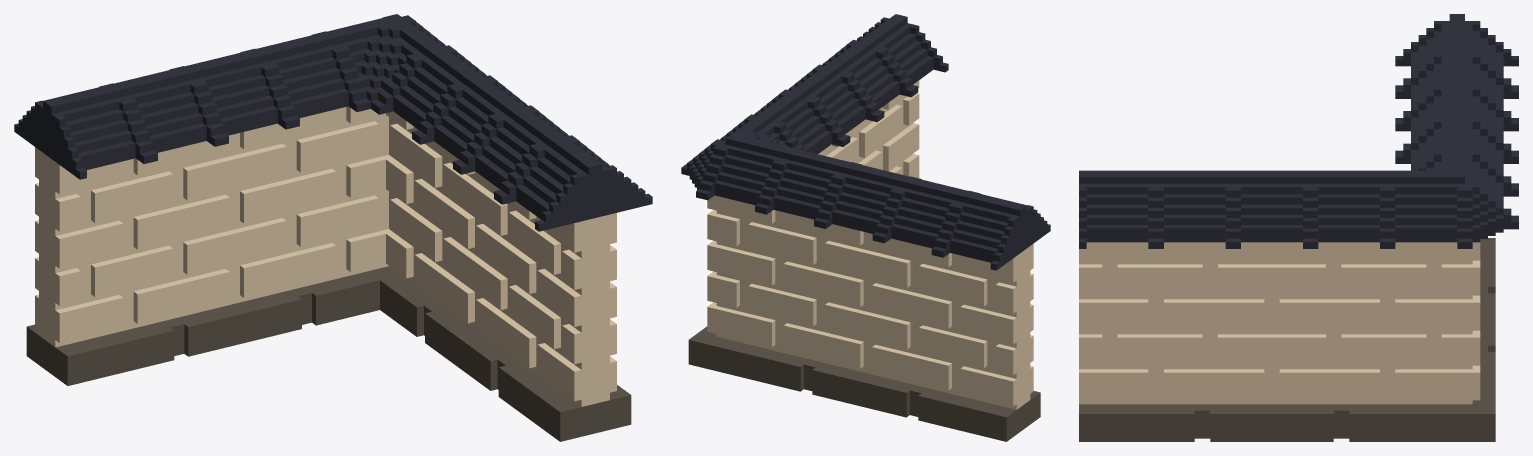
The model's file is Korean_wall_04.FBX.
The picture shows the model from 3 angles, left to right: view 1: azimuth 30°, elevation 25°; view 2: azimuth 150°, elevation 25°; view 3: azimuth 270°, elevation 25°; orthographic projection. The views are drawn at different scales.
Parts seen in each view (by area): view 1: Voxel_Korean_traditional village-33; view 2: Voxel_Korean_traditional village-33; view 3: Voxel_Korean_traditional village-33.
Part boxes in pixels (x1,y1,x2,y2): Voxel_Korean_traditional village-33: (14, 14, 652, 441); Voxel_Korean_traditional village-33: (681, 14, 1050, 441); Voxel_Korean_traditional village-33: (1079, 14, 1518, 441).
Size of the model in its own units: 56.99 by 35.99 by 56.99.
Materials: 1 (1 with a texture image).
